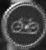bike lane: (3, 2, 43, 46)
